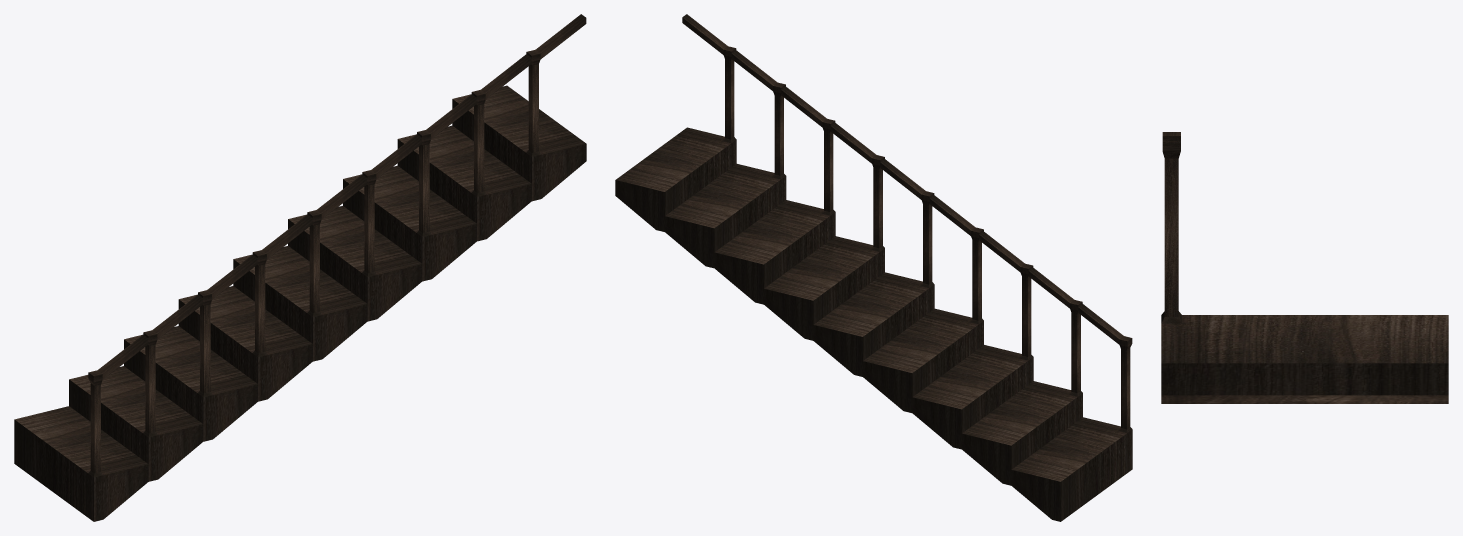
Rendered from stepenice3.fbx.
3 renders of one model, left to right at view 1: azimuth 30°, elevation 25°; view 2: azimuth 150°, elevation 25°; view 3: azimuth 270°, elevation 25°, orthographic. The views are drawn at different scales.
Parts seen in each view (by area): view 1: Cube.005; view 2: Cube.005; view 3: Cube.005.
Boxes of the visible parts, bbox=[...] form: Cube.005: bbox=[14, 14, 586, 521]; Cube.005: bbox=[615, 14, 1132, 521]; Cube.005: bbox=[1161, 132, 1448, 403].
Bounding box in the file's own units: 90.05 × 322 × 240.
